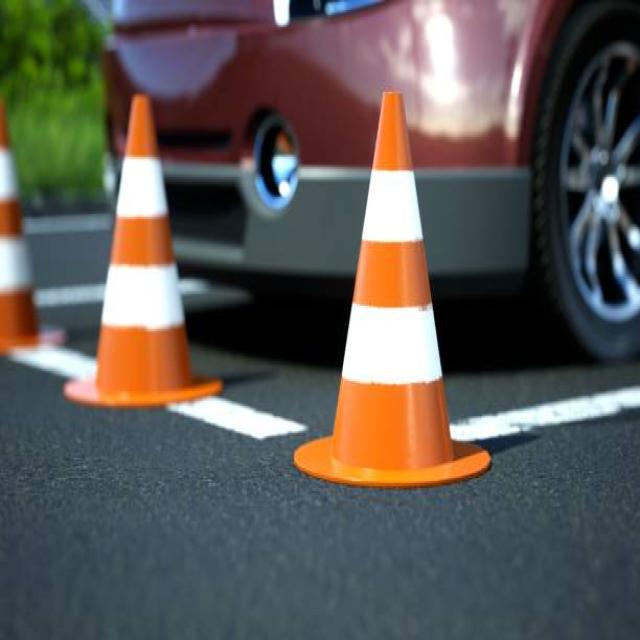Traffic Cone: (284, 43, 503, 555), (51, 28, 233, 438)
